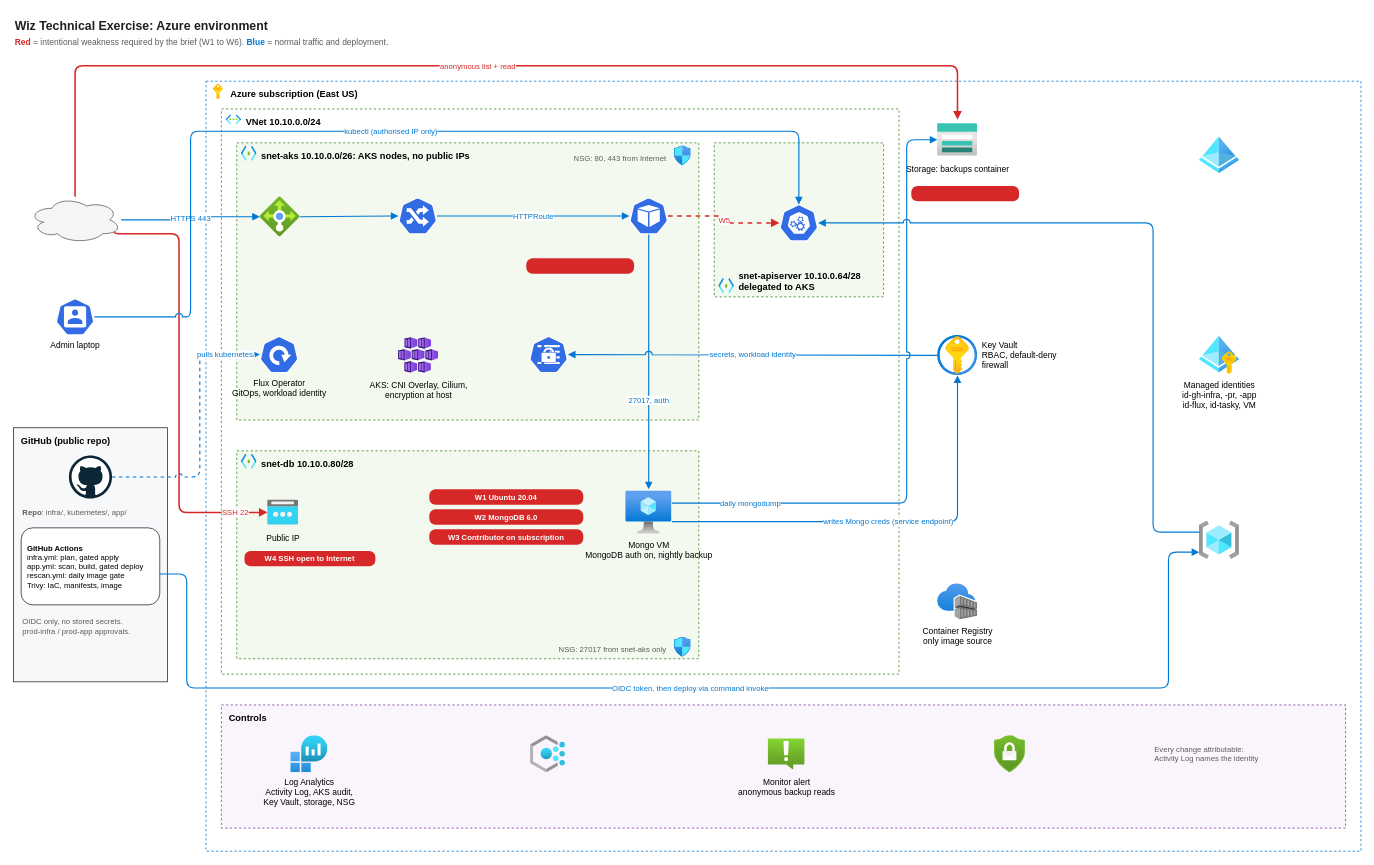
Some shapes in this 1374 by 865 pixel diagram are drawn without their labels. Here are the shapes that lost their labels. From the top down, the centre of each, then its label:
At (x=1219, y=155): "Entra ID OIDC federation".
At (x=965, y=193): "W6 public read + list".
At (x=74, y=219): "Internet".
At (x=279, y=216): "Load balancer + public IP".
At (x=417, y=215): "Envoy Gateway Gateway API + TLS (Let's Encrypt)".
At (x=648, y=215): "tasky pods".
At (x=798, y=222): "AKS API server VNet integrated".
At (x=580, y=265): "W5 cluster-admin SA".
At (x=548, y=354): "Secrets Store CSI (Key Vault sync)".
At (x=1219, y=540): "Azure Resource Manager (command invoke)".
At (x=547, y=753): "Azure Policy (Gatekeeper) Deny: images not from ACR".
At (x=1009, y=753): "Defender for Cloud free tier, MCSB".
